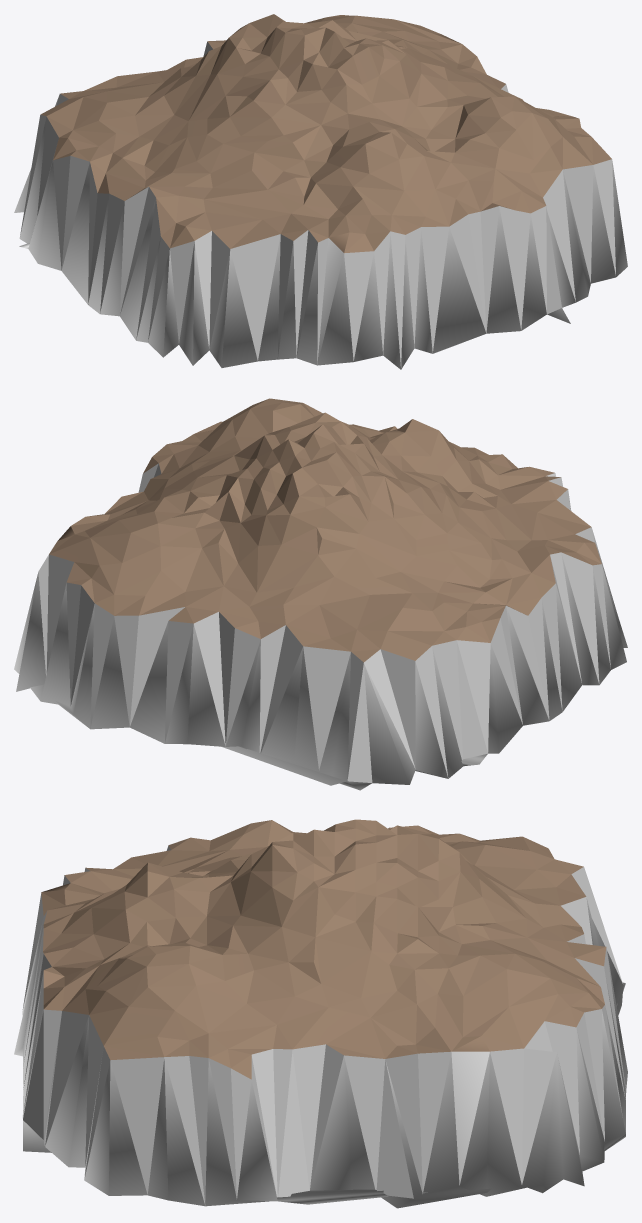
The model's file is Mountain_05.fbx.
The picture shows the model from 3 angles, top to bottom: view 1: azimuth 30°, elevation 25°; view 2: azimuth 150°, elevation 25°; view 3: azimuth 270°, elevation 25°; orthographic projection. The views are drawn at different scales.
Parts seen in each view (by area): view 1: Mountain_05; view 2: Mountain_05; view 3: Mountain_05.
Part boxes in pixels (x1,y1,x2,y2): Mountain_05: (14, 14, 627, 369); Mountain_05: (14, 398, 627, 790); Mountain_05: (14, 819, 627, 1208).
Bounding box in the file's own units: 14154 × 6748 × 14396.
